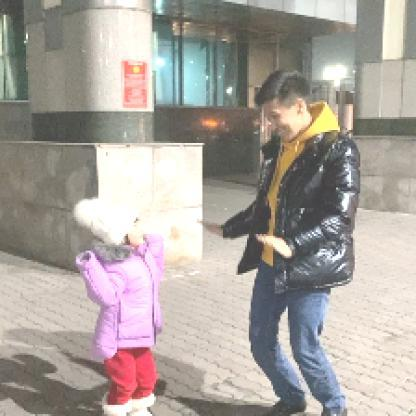child: (76, 196, 167, 415)
